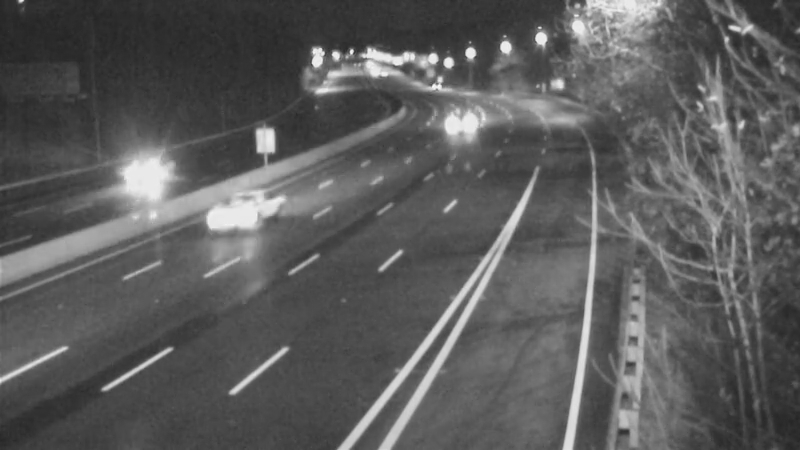vehicle: (195, 171, 275, 251), (105, 132, 185, 212), (413, 62, 463, 112), (436, 95, 486, 145)
